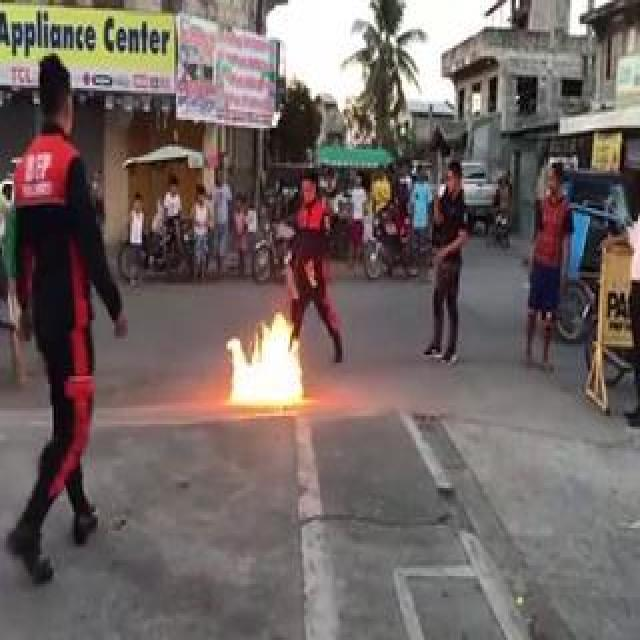Smoke: (225, 312, 303, 408)
